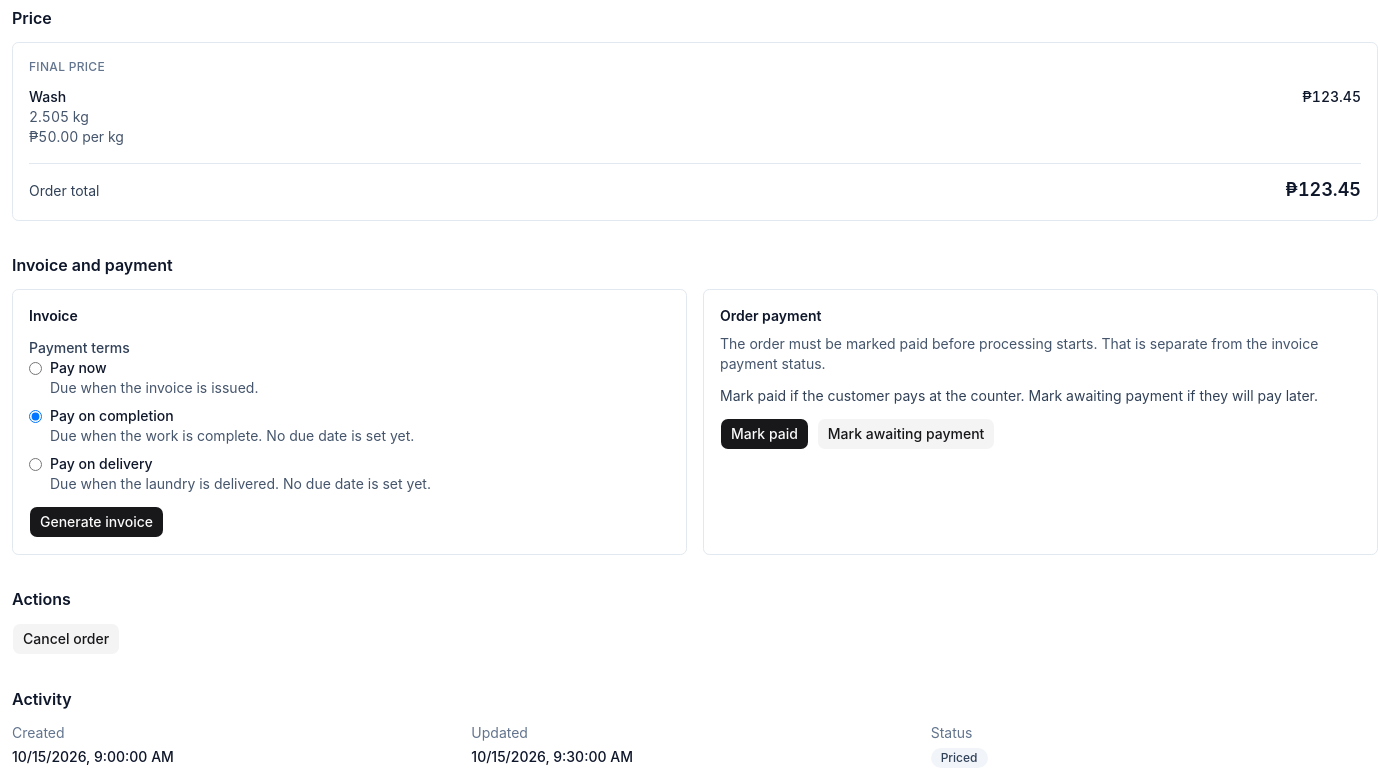
Test case: order page invoice and payment (#166) › generate › case 6: a failed invoice refetch says so and keeps the order page
(page scrolled)
Expected: the element with id "laundry-order-invoice" is shown, [12,253,1377,555]
Click the button "Generate invoice". click: x=96, y=522
box: [29,506,164,538]
(page scrolled)
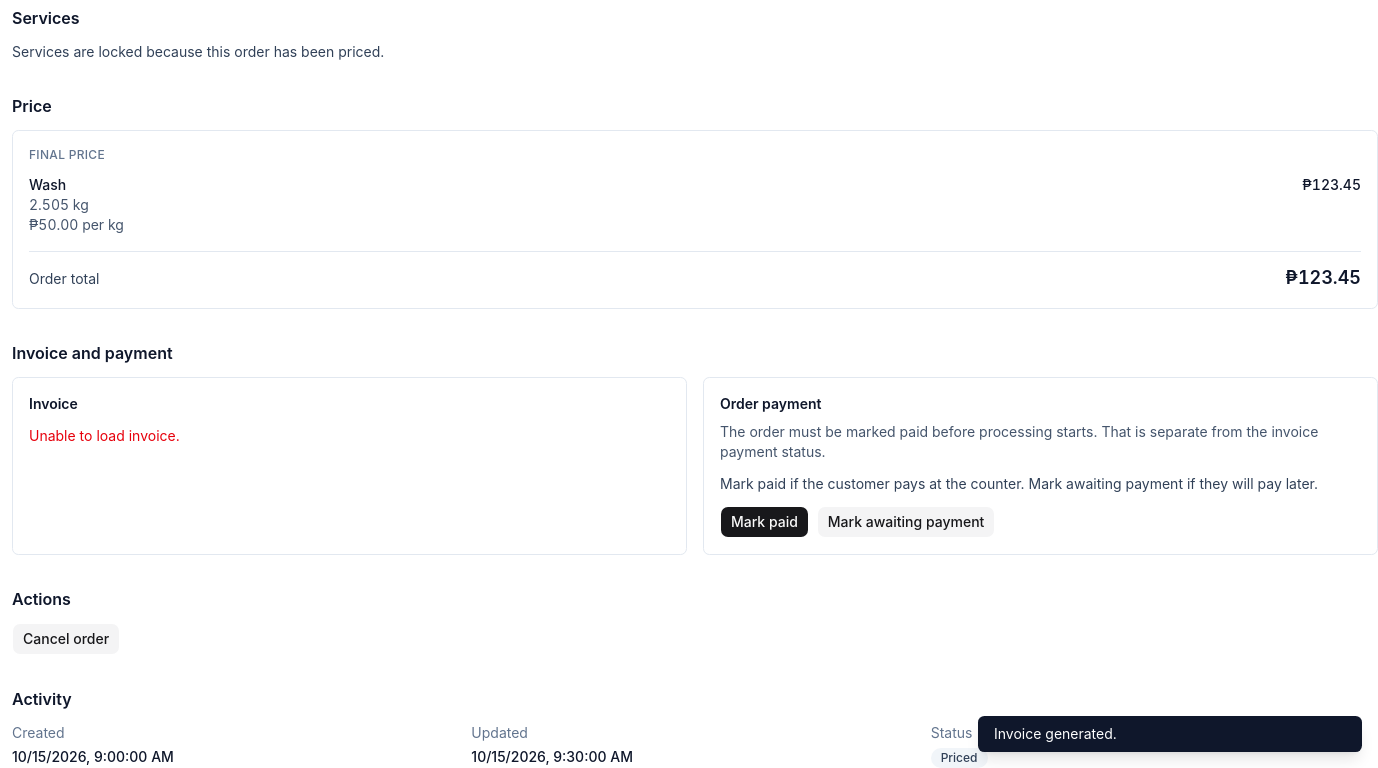
Expected: the element with id "laundry-order-invoice" is shown, [12,341,1377,555]
Result: the element with id "laundry-order-invoice" shows "Unable to load invoice." at [29,427,180,444]
